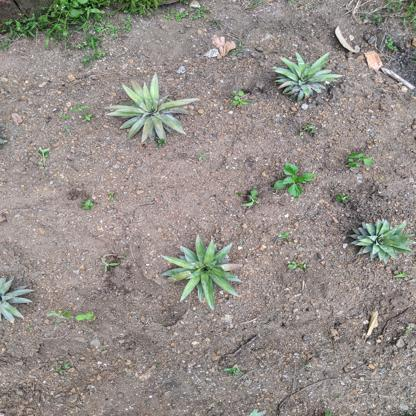pineapple: (157, 234, 247, 314), (107, 71, 201, 146), (272, 49, 343, 97), (349, 216, 415, 265), (1, 271, 36, 324)
weed: (275, 160, 312, 199), (346, 147, 377, 172), (236, 183, 263, 211), (229, 87, 254, 115)
